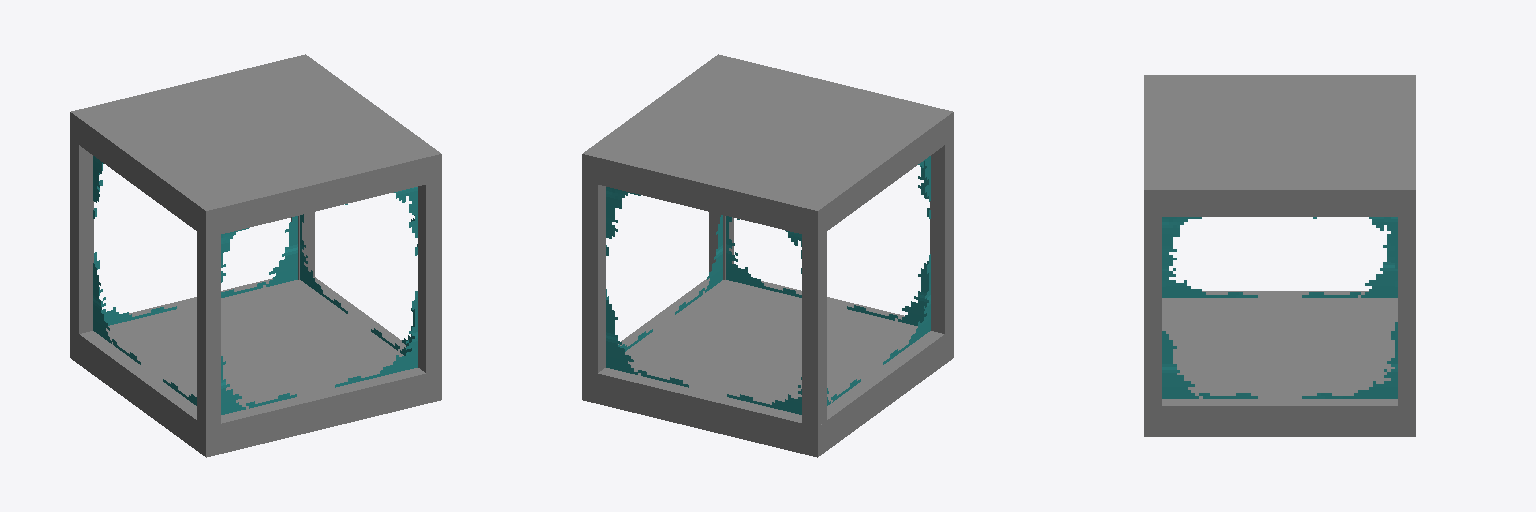
3 renders of one model, left to right at view 1: azimuth 30°, elevation 25°; view 2: azimuth 150°, elevation 25°; view 3: azimuth 270°, elevation 25°, orthographic.
Visible parts, largest first — view 1: Object01, Object02; view 2: Object01, Object02; view 3: Object01, Object02.
Part boxes in pixels (bbox=[...]): Object01: bbox=[70, 54, 441, 457]; Object02: bbox=[93, 156, 417, 414]; Object01: bbox=[582, 54, 953, 457]; Object02: bbox=[606, 156, 930, 414]; Object01: bbox=[1144, 75, 1415, 436]; Object02: bbox=[1162, 217, 1397, 398].
Bounding box in the file's own units: 24 × 24 × 24.
2 materials, 1 textured.